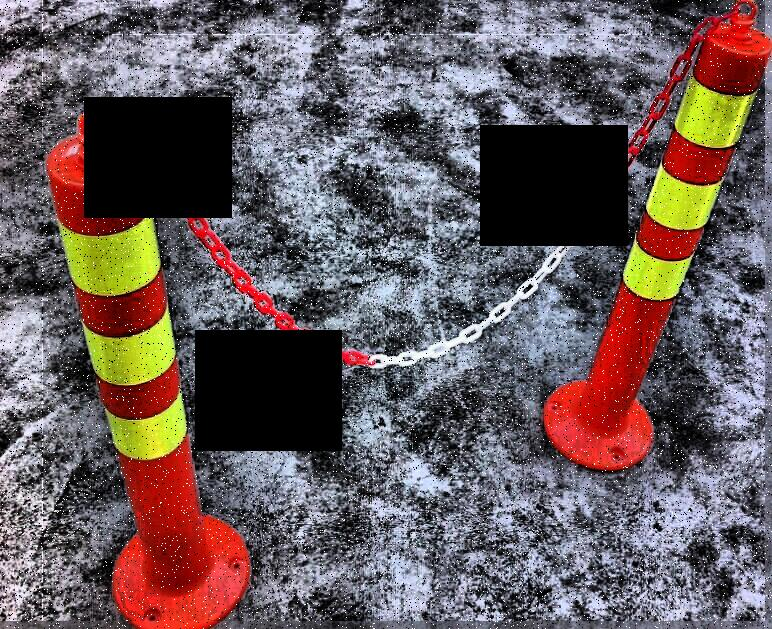bench: (31, 113, 267, 626)
